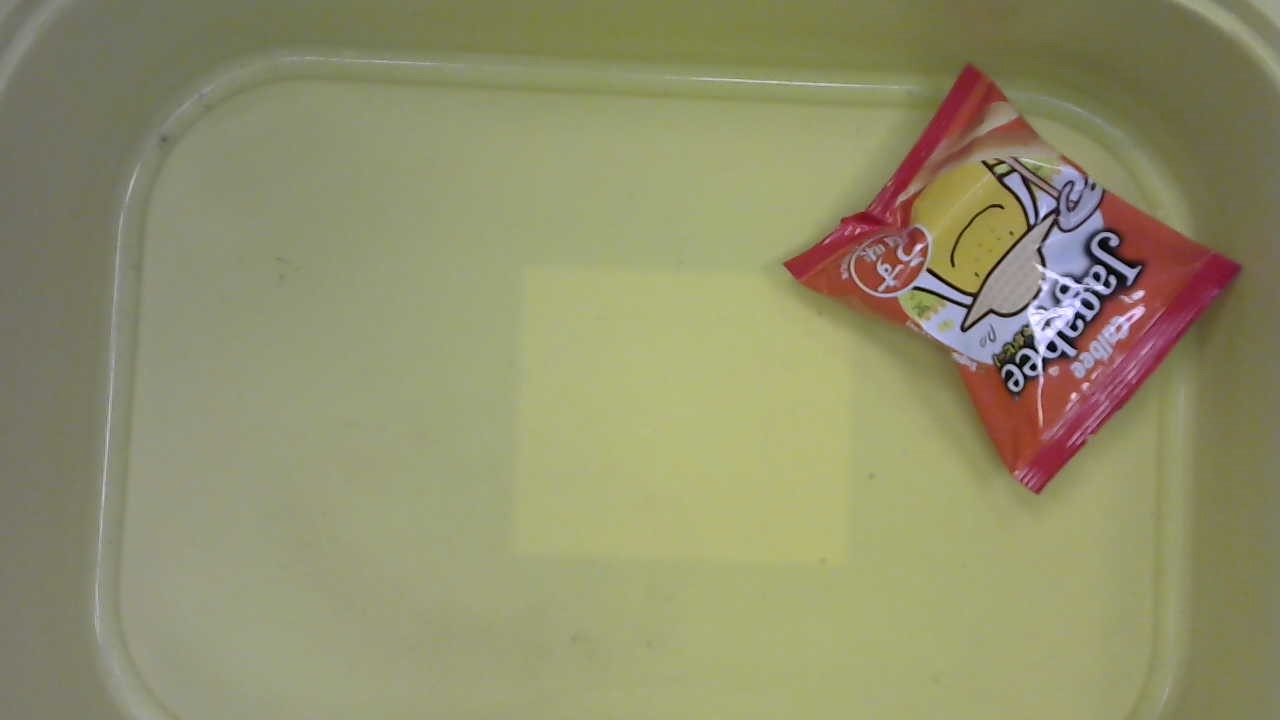JagabeeFarmer: (759, 45, 1257, 514)
